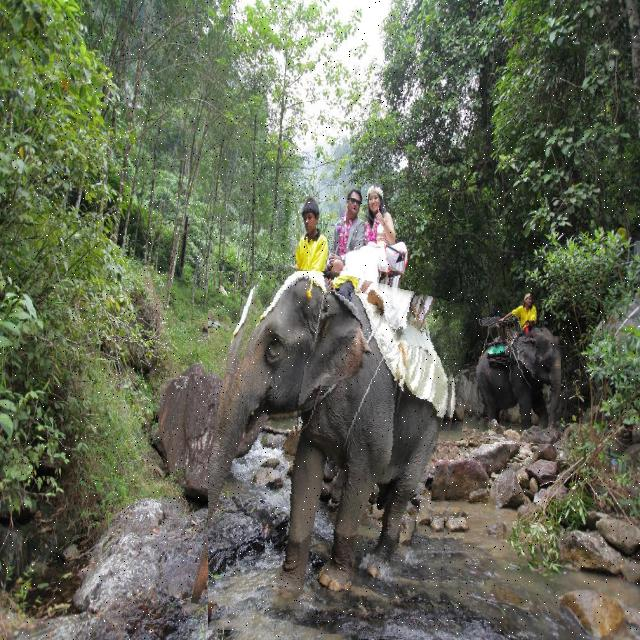elephant: (208, 271, 459, 638), (466, 328, 561, 444)
